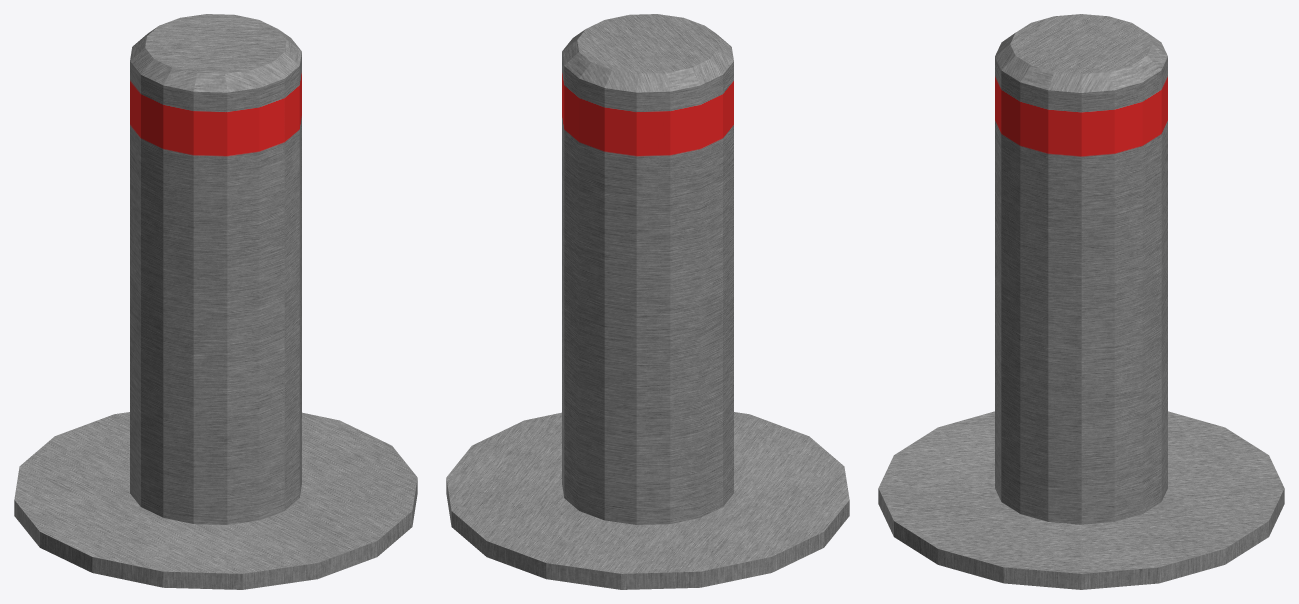
Rendered from bollard_textured.fbx.
The picture shows the model from 3 angles, left to right: view 1: azimuth 30°, elevation 25°; view 2: azimuth 150°, elevation 25°; view 3: azimuth 270°, elevation 25°; orthographic projection.
Parts seen in each view (by area): view 1: Circle; view 2: Circle; view 3: Circle.
Part boxes in pixels (x1,y1,x2,y2): Circle: (14, 14, 417, 589); Circle: (446, 14, 849, 589); Circle: (878, 14, 1284, 589).
Bounding box in the file's own units: 80 × 100 × 80.
